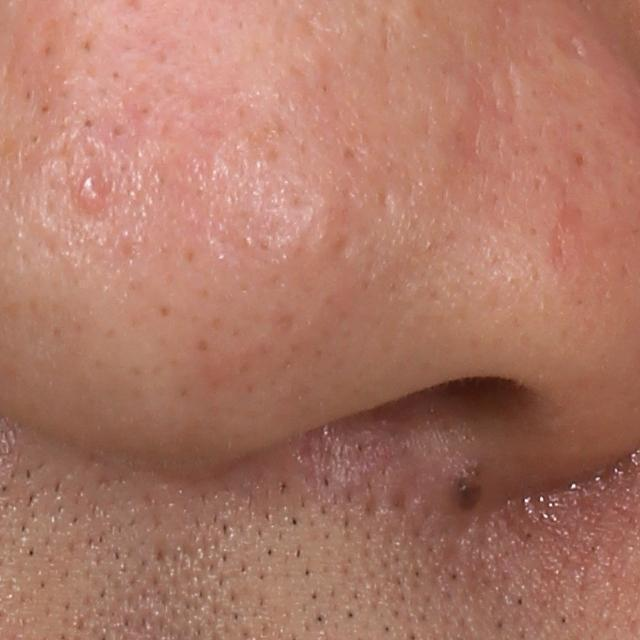atrophic_scar: (454, 49, 485, 169), (547, 27, 590, 66)
papule: (72, 173, 110, 213)
